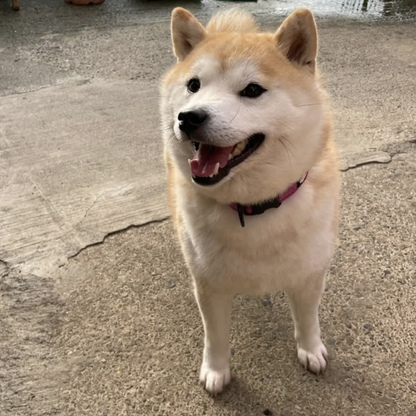shiba: (152, 3, 342, 399)
